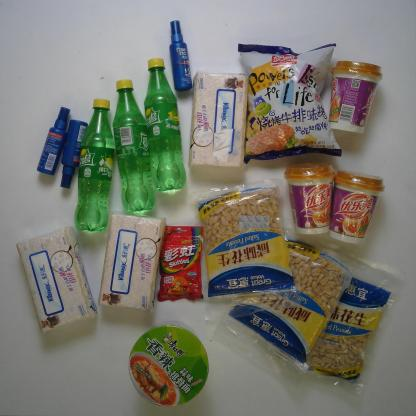Candy: (157, 221, 206, 302)
Dried Fruit: (216, 228, 356, 382), (197, 180, 303, 320), (298, 257, 405, 394)
Drink: (110, 76, 160, 214), (142, 56, 189, 194), (74, 99, 115, 236)
Instant Drink: (324, 168, 387, 246), (323, 58, 382, 136), (284, 160, 335, 237)
Instant Noodles: (124, 323, 211, 409)
Personal Hygiene: (34, 104, 72, 176), (56, 116, 88, 191), (168, 17, 196, 91)
Puffed Food: (234, 40, 343, 162)
Tissue: (13, 226, 99, 336), (98, 210, 164, 315), (188, 68, 250, 172)
